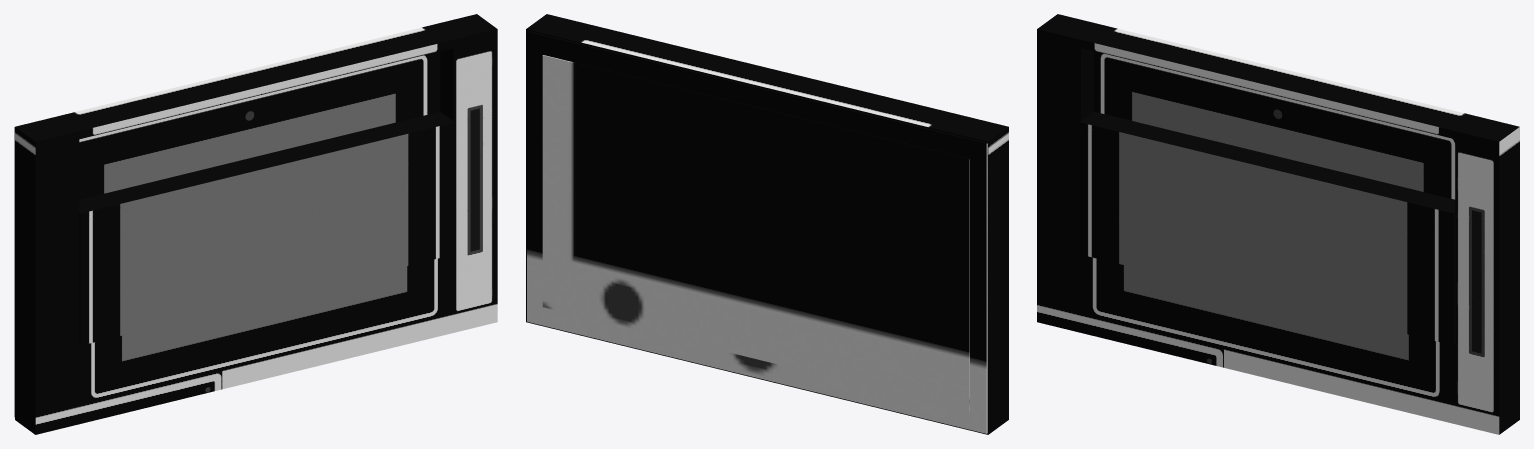
File: UTC_515.fbx
3 views of the same model, side by side, from view 1: azimuth 30°, elevation 25°; view 2: azimuth 150°, elevation 25°; view 3: azimuth 330°, elevation 25° (orthographic).
Parts seen in each view (by area): view 1: C; view 2: A, B, C; view 3: C.
Part boxes in pixels (<box>): C: <box>15,14,497,434</box>; A: <box>542,55,969,410</box>; B: <box>527,31,987,433</box>; C: <box>526,14,1008,434</box>; C: <box>1037,14,1519,434</box>.
Bounding box in the file's own units: 39.48 × 23.93 × 3.47.
